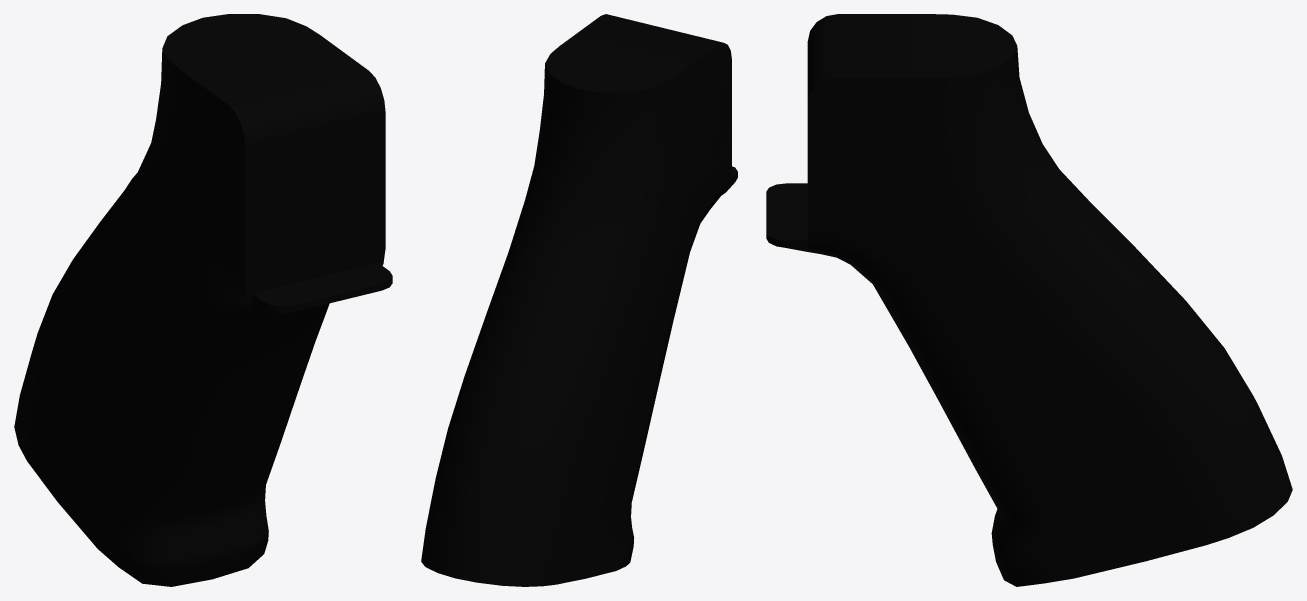
The model's file is Grip.fbx.
The picture shows the model from 3 angles, left to right: view 1: azimuth 30°, elevation 25°; view 2: azimuth 150°, elevation 25°; view 3: azimuth 270°, elevation 25°; orthographic projection. The views are drawn at different scales.
Visible parts, largest first — view 1: Grip; view 2: Grip; view 3: Grip.
Boxes of the visible parts, x1,y1,x2,y2 form: Grip: [14, 14, 392, 586]; Grip: [421, 14, 737, 586]; Grip: [766, 14, 1292, 586].
Bounding box in the file's own units: 2.96 × 10.23 × 9.44.
Materials: 1 (1 with a texture image).
